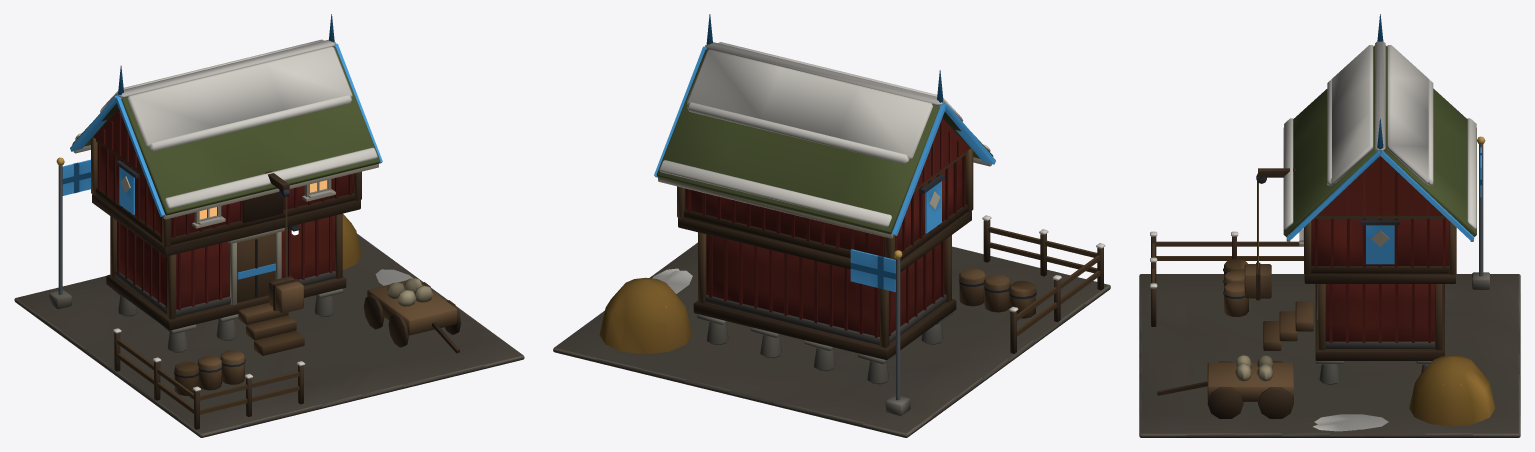
File: depot.glb
3 views of the same model, side by side, from view 1: azimuth 30°, elevation 25°; view 2: azimuth 150°, elevation 25°; view 3: azimuth 270°, elevation 25° (orthographic). The views are drawn at different scales.
Parts seen in each view (by area): view 1: depot_root_matte, depot_root_trim, depot_root_metal, flag; view 2: depot_root_matte, depot_root_trim, flag, depot_root_metal; view 3: depot_root_matte, depot_root_trim, depot_root_metal.
Part boxes in pixels (x1=…): depot_root_matte: x1=14, y1=39, x2=524, y2=437; depot_root_trim: x1=70, y1=14, x2=382, y2=279; depot_root_metal: x1=56, y1=157, x2=300, y2=378; flag: x1=62, y1=159, x2=90, y2=195; depot_root_matte: x1=553, y1=42, x2=1110, y2=437; depot_root_trim: x1=654, y1=14, x2=995, y2=235; flag: x1=850, y1=249, x2=895, y2=292; depot_root_metal: x1=893, y1=174, x2=1036, y2=400; depot_root_matte: x1=1139, y1=41, x2=1520, y2=437; depot_root_trim: x1=1286, y1=14, x2=1474, y2=264; depot_root_metal: x1=1223, y1=136, x2=1485, y2=298.
Size of the model in its own units: 10.6 by 8.67 by 10.6.
